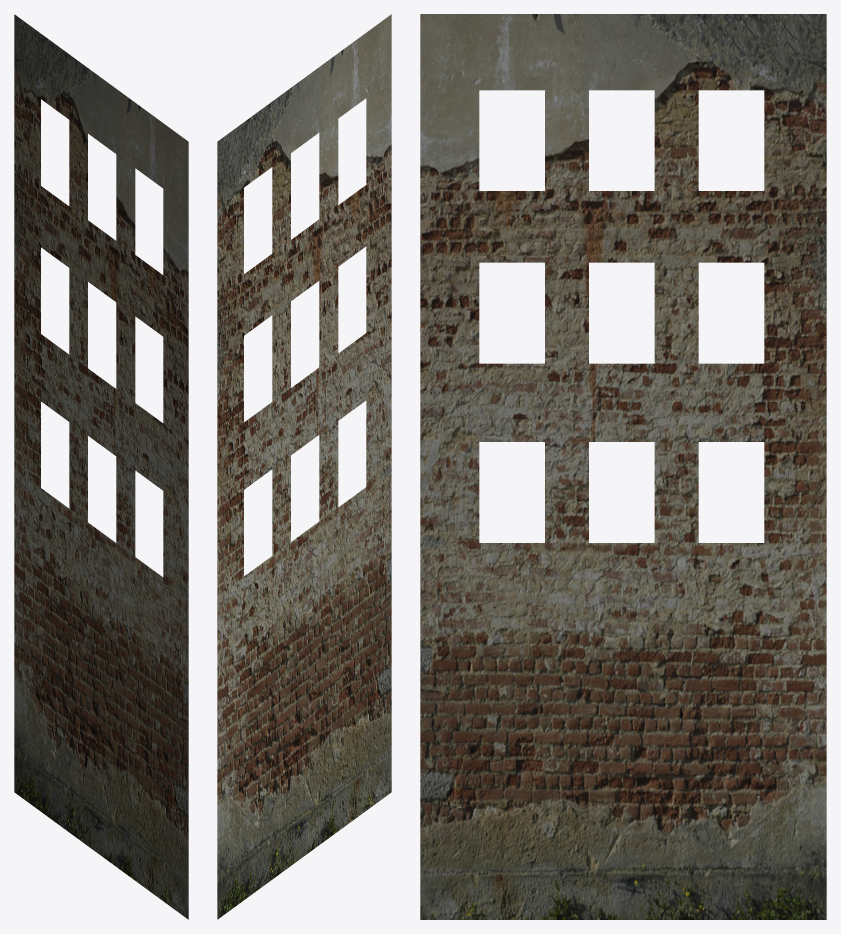
Rendered from city_buildingSide0035.fbx.
3 renders of one model, left to right at view 1: azimuth 30°, elevation 25°; view 2: azimuth 150°, elevation 25°; view 3: azimuth 270°, elevation 25°, orthographic. The views are drawn at different scales.
Visible parts, largest first — view 1: city_buildingSide0035; view 2: city_buildingSide0035; view 3: city_buildingSide0035.
Boxes of the visible parts, left/top/right/bottom form: city_buildingSide0035: left=14, top=14, right=188, bottom=919; city_buildingSide0035: left=217, top=14, right=391, bottom=919; city_buildingSide0035: left=420, top=14, right=826, bottom=919.
Bounding box in the file's own units: 0.000488 × 875 × 2152.
1 material, 1 textured.
